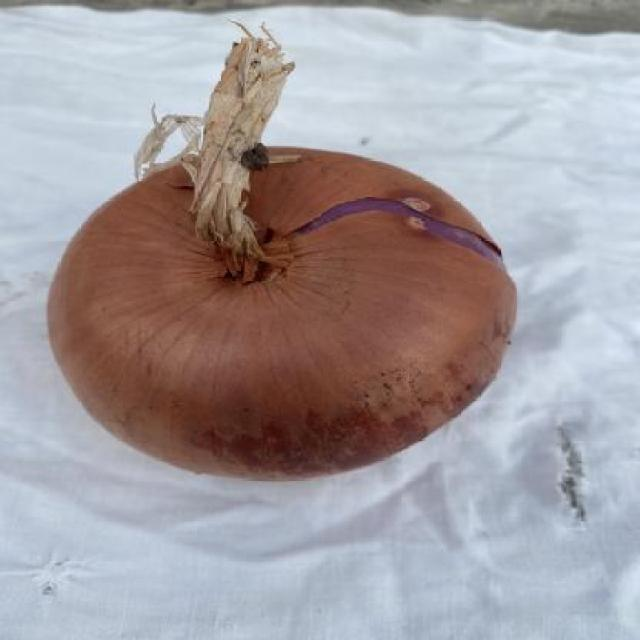Onion: (48, 26, 518, 479)
